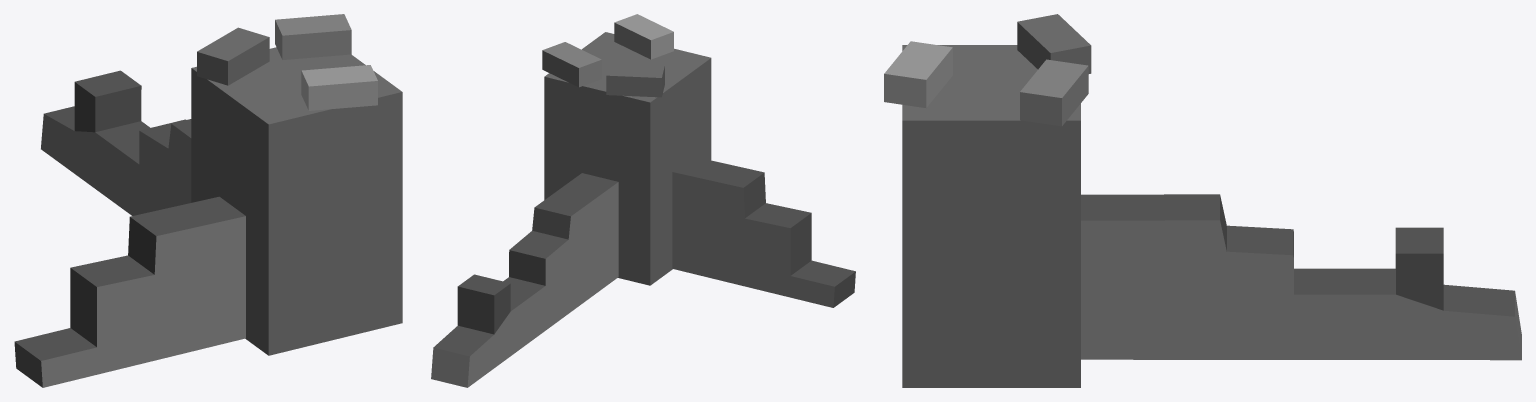
Rendered from ruin2.fbx.
3 renders of one model, left to right at view 1: azimuth 30°, elevation 25°; view 2: azimuth 150°, elevation 25°; view 3: azimuth 270°, elevation 25°, orthographic. The views are drawn at different scales.
Parts seen in each view (by area): view 1: Object; view 2: Object; view 3: Object.
Boxes of the visible parts, box(x1,y1,x2,y2) form: Object: box(14, 14, 402, 387); Object: box(431, 14, 855, 387); Object: box(884, 14, 1521, 387).
Size of the model in its own units: 4851 by 3394 by 6628.
